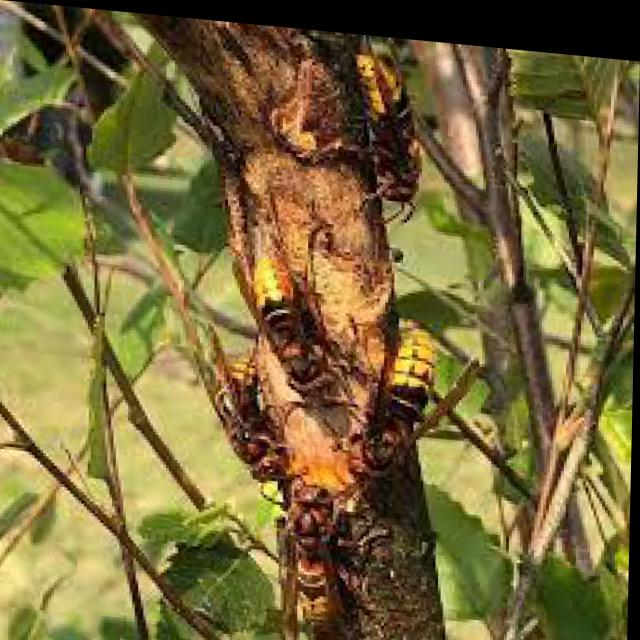Vespa Crabro: (354, 285, 478, 497), (228, 195, 342, 379), (262, 448, 380, 624), (186, 320, 314, 477), (338, 44, 446, 207)
